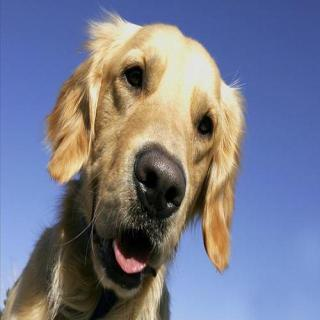dog: (38, 8, 255, 296)
nose: (132, 144, 188, 222)
